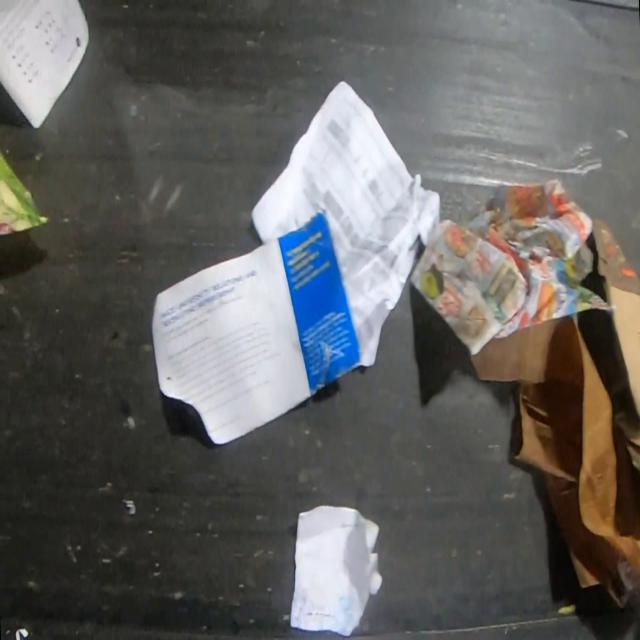cardboard: (470, 316, 639, 588), (591, 216, 640, 469)
soft_plastic: (0, 145, 52, 242)
